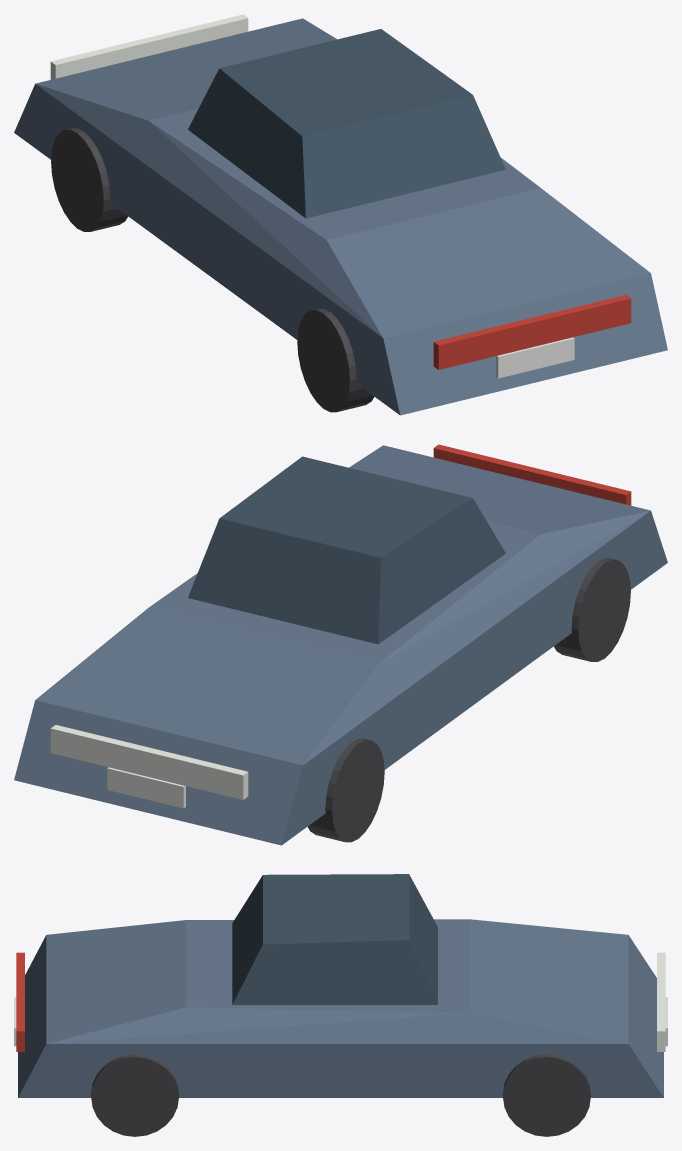
Rendered from visitor_sedan_real3d.glb.
3 renders of one model, top to bottom at view 1: azimuth 30°, elevation 25°; view 2: azimuth 150°, elevation 25°; view 3: azimuth 270°, elevation 25°, orthographic. The views are drawn at different scales.
Parts seen in each view (by area): view 1: body, cabin, world; view 2: body, cabin, world; view 3: body, cabin, world.
Boxes of the visible parts, x1=… form: body: x1=14, y1=18, x2=667, y2=415; cabin: x1=188, y1=29, x2=505, y2=218; world: x1=50, y1=14, x2=631, y2=412; body: x1=14, y1=445, x2=667, y2=845; cabin: x1=188, y1=456, x2=505, y2=644; world: x1=50, y1=444, x2=631, y2=842; body: x1=18, y1=919, x2=663, y2=1097; cabin: x1=232, y1=874, x2=437, y2=1004; world: x1=14, y1=952, x2=667, y2=1136.
Bounding box in the file's own units: 1.91 × 1.34 × 4.61.
